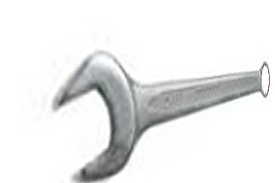Wrench: (39, 40, 275, 180)
